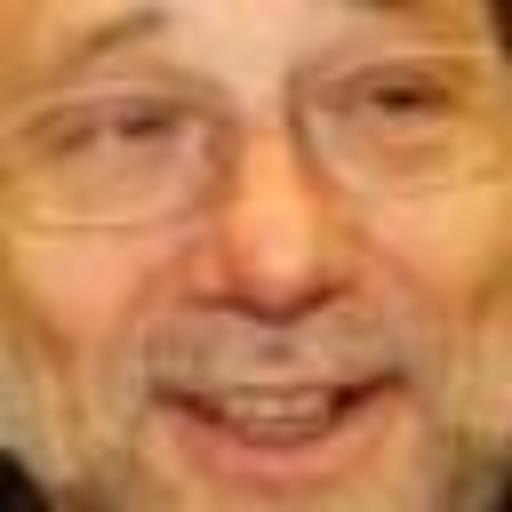left_eye: (338, 69, 459, 140)
left_lip_corner: (363, 352, 421, 400)
right_eye: (53, 94, 193, 164)
right_lip_corner: (142, 363, 217, 427)
